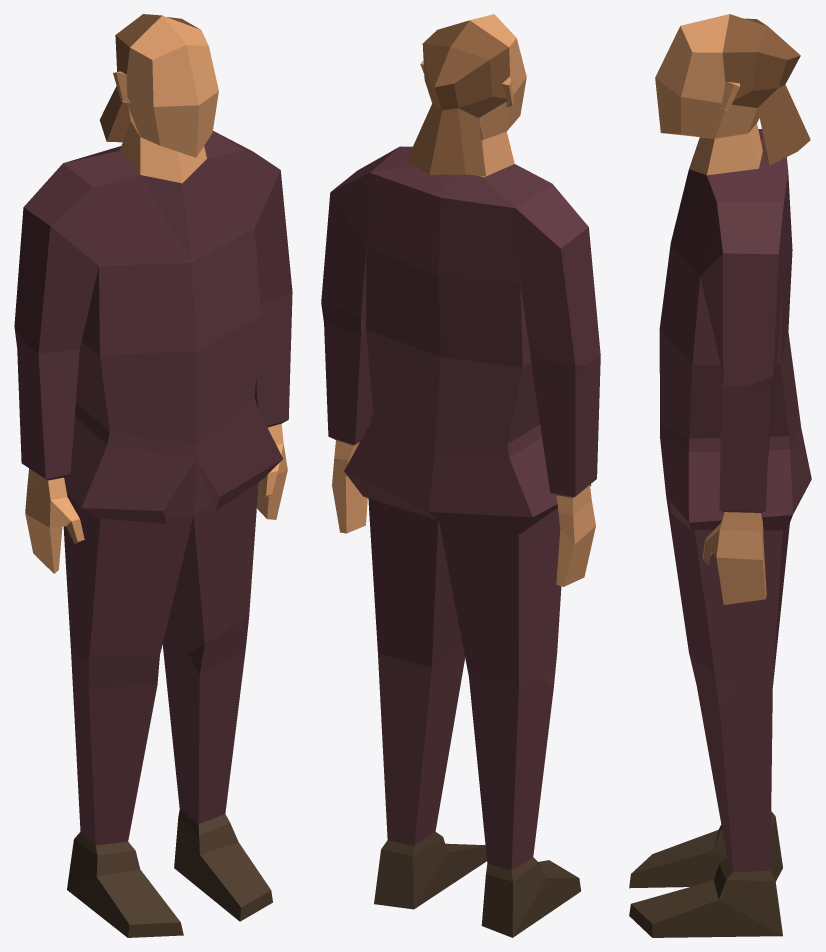
The model's file is man-servant.fbx.
3 renders of one model, left to right at view 1: azimuth 30°, elevation 25°; view 2: azimuth 150°, elevation 25°; view 3: azimuth 270°, elevation 25°, orthographic.
Visible parts, largest first — view 1: man-servant; view 2: man-servant; view 3: man-servant.
Boxes of the visible parts, left/top/right/bottom form: man-servant: left=14, top=14, right=292, bottom=937; man-servant: left=321, top=14, right=600, bottom=937; man-servant: left=629, top=14, right=811, bottom=937.
Size of the model in its own units: 0.5438 by 1.79 by 0.3343.
